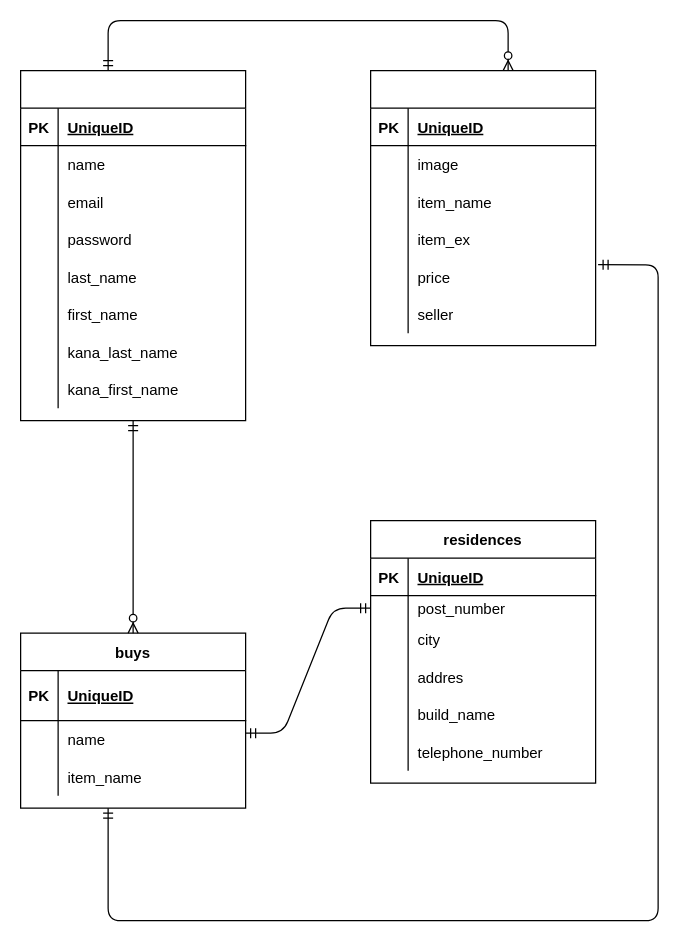
The diagram is 679 pixels wide and 941 high, and some of its shapes have lost their labels. Here are the shapes that lost their labels. From the top down, the box of each, then its label:
(369, 69, 596, 346): items
(19, 69, 246, 421): users
